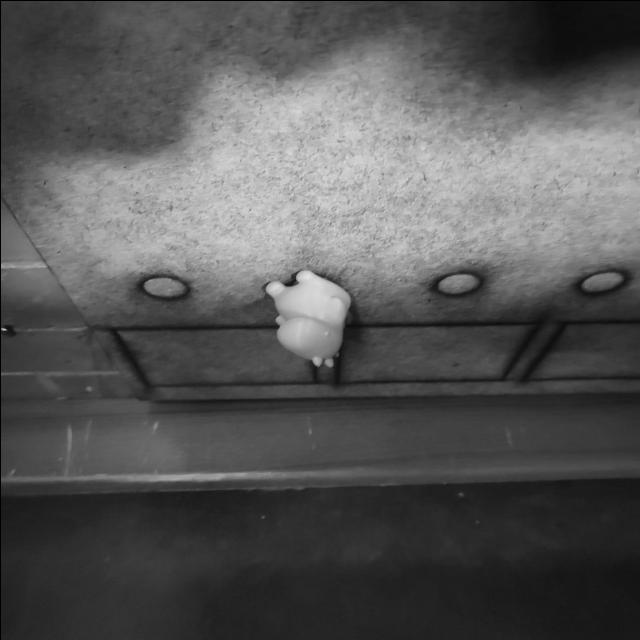DINO: (258, 270, 373, 370)
